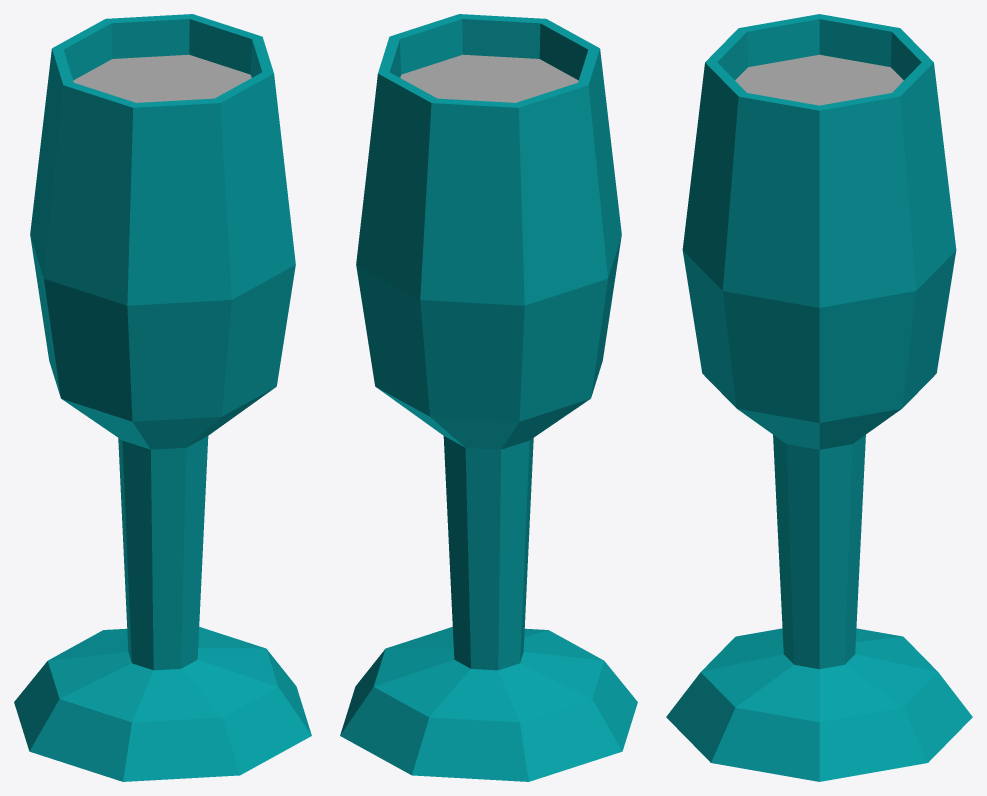
The model's file is WineGlass2.fbx.
The picture shows the model from 3 angles, left to right: view 1: azimuth 30°, elevation 25°; view 2: azimuth 150°, elevation 25°; view 3: azimuth 270°, elevation 25°; orthographic projection.
Parts seen in each view (by area): view 1: WineGlass2, LiquidFull; view 2: WineGlass2, LiquidFull; view 3: WineGlass2, LiquidFull.
Part boxes in pixels (x1,y1,x2,y2): WineGlass2: (14, 14, 311, 781); LiquidFull: (73, 54, 251, 102); WineGlass2: (340, 14, 637, 781); LiquidFull: (400, 54, 578, 102); WineGlass2: (666, 14, 972, 781); LiquidFull: (735, 54, 903, 105).
Bounding box in the file's own units: 0.1408 × 0.3314 × 0.1408.
